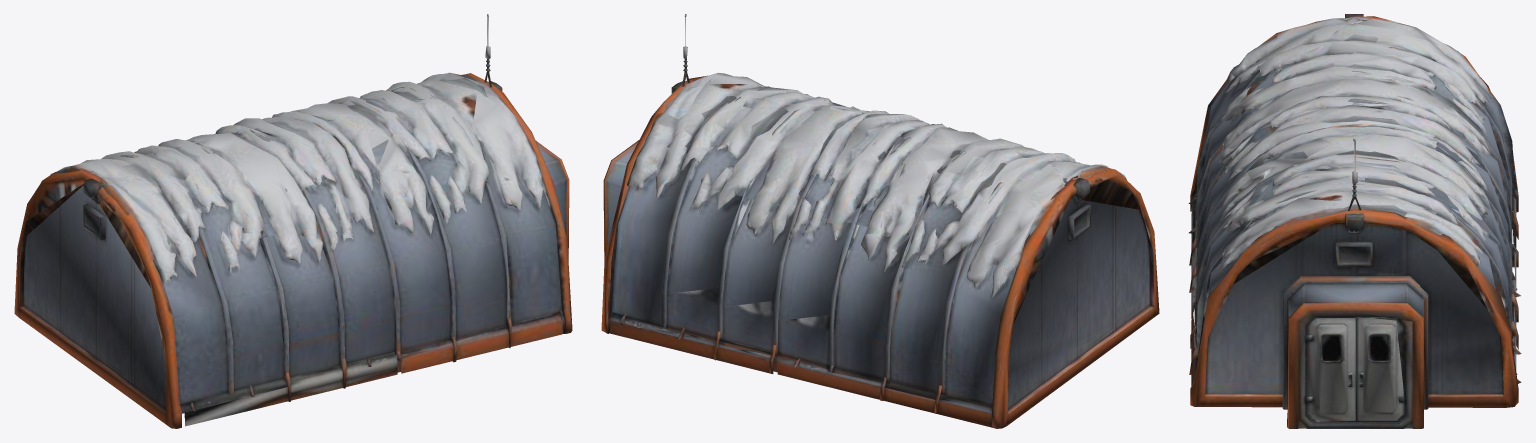
Rendered from quonsetHut.glb.
3 renders of one model, left to right at view 1: azimuth 30°, elevation 25°; view 2: azimuth 150°, elevation 25°; view 3: azimuth 270°, elevation 25°, orthographic.
Visible parts, largest first — view 1: tripo_node_4096493b-4c4c-4be1-a38d-726b0566a23a; view 2: tripo_node_4096493b-4c4c-4be1-a38d-726b0566a23a; view 3: tripo_node_4096493b-4c4c-4be1-a38d-726b0566a23a.
Part boxes in pixels (x1=…): tripo_node_4096493b-4c4c-4be1-a38d-726b0566a23a: x1=14, y1=14, x2=572, y2=428; tripo_node_4096493b-4c4c-4be1-a38d-726b0566a23a: x1=601, y1=14, x2=1159, y2=428; tripo_node_4096493b-4c4c-4be1-a38d-726b0566a23a: x1=1188, y1=14, x2=1521, y2=428.
Size of the model in its own units: 0.998 by 0.5527 by 0.6269.
Materials: 1 (1 with a texture image).
